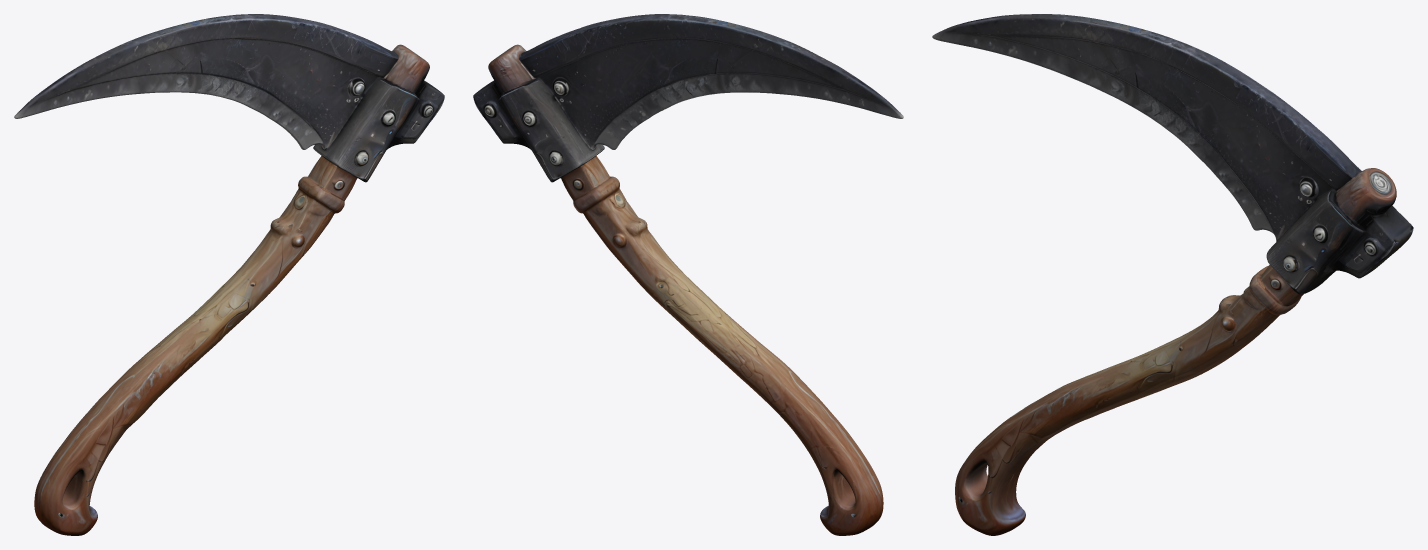
File: tripo_convert_e172e440-73b4-4cf0-8646-a3a9b30ae1f4(Sickle).fbx
3 renders of one model, left to right at view 1: azimuth 30°, elevation 25°; view 2: azimuth 150°, elevation 25°; view 3: azimuth 330°, elevation 25°, orthographic. The views are drawn at different scales.
Parts seen in each view (by area): view 1: tripo_node_e172e440; view 2: tripo_node_e172e440; view 3: tripo_node_e172e440.
Boxes of the visible parts, x1,y1,x2,y2 form: tripo_node_e172e440: (14, 14, 444, 535); tripo_node_e172e440: (473, 14, 903, 535); tripo_node_e172e440: (932, 14, 1413, 535).
Size of the model in its own units: 0.9245 by 1 by 0.1227.
